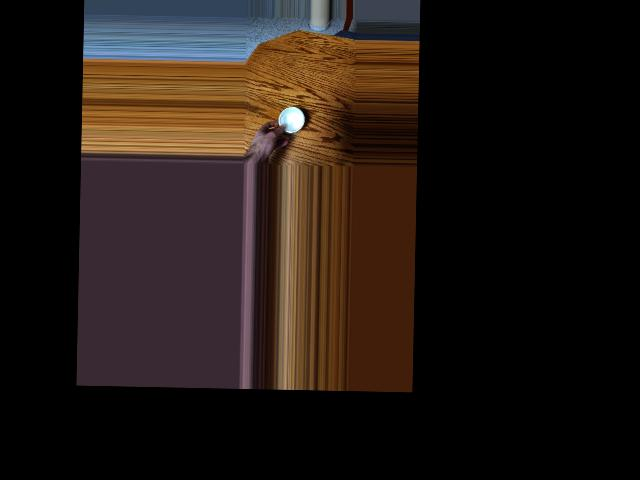cotage: (275, 106, 305, 135)
